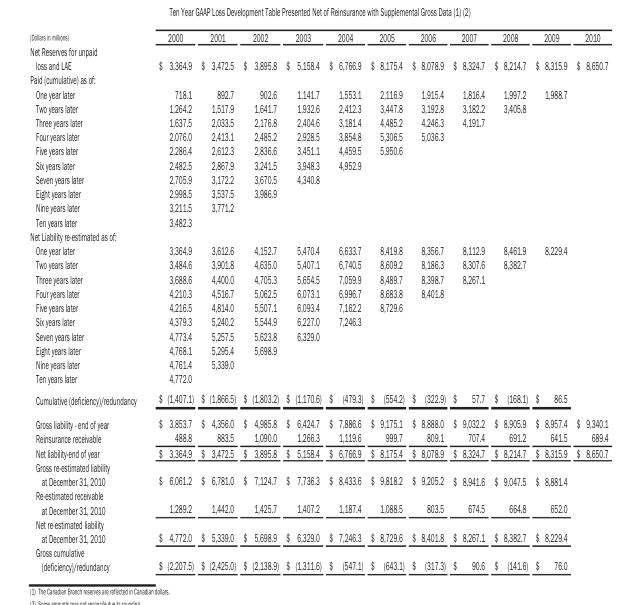table: (29, 29, 607, 574)
table column: (29, 29, 146, 574), (146, 29, 196, 574), (238, 29, 281, 574), (281, 29, 324, 574), (196, 29, 238, 574), (324, 29, 366, 574), (488, 29, 530, 574), (366, 29, 407, 574), (407, 29, 448, 574), (530, 29, 571, 574), (448, 29, 488, 574), (571, 29, 607, 574)
table column header: (29, 29, 607, 43)
table projected row header: (29, 43, 607, 58), (29, 72, 607, 86), (29, 229, 607, 243), (29, 488, 607, 502), (29, 516, 607, 530), (29, 545, 607, 559), (29, 460, 607, 473)
table row: (29, 388, 607, 411), (29, 411, 607, 430), (29, 371, 607, 388), (29, 43, 607, 58), (29, 100, 607, 115), (29, 157, 607, 172), (29, 214, 607, 229), (29, 271, 607, 286), (29, 342, 607, 357), (29, 430, 607, 445), (29, 445, 607, 460), (29, 473, 607, 488), (29, 530, 607, 545), (29, 559, 607, 574), (29, 29, 607, 43), (29, 58, 607, 72), (29, 72, 607, 86), (29, 86, 607, 100), (29, 115, 607, 129), (29, 129, 607, 143), (29, 143, 607, 157), (29, 172, 607, 186), (29, 186, 607, 200), (29, 200, 607, 214), (29, 229, 607, 243), (29, 243, 607, 257), (29, 257, 607, 271), (29, 286, 607, 300), (29, 300, 607, 314), (29, 314, 607, 328), (29, 328, 607, 342), (29, 357, 607, 371), (29, 488, 607, 502), (29, 502, 607, 516), (29, 516, 607, 530), (29, 545, 607, 559), (29, 460, 607, 473)
